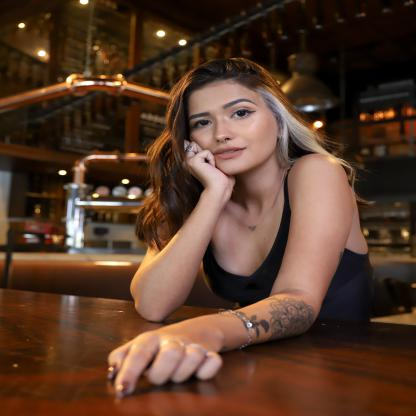Eye: (229, 106, 258, 120), (188, 117, 215, 131)
Mouth: (210, 145, 249, 160)
Nose: (213, 119, 237, 144)
